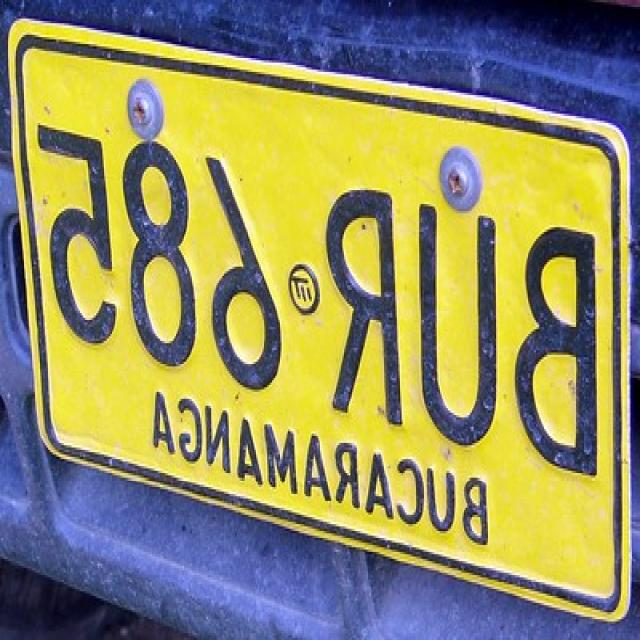placas: (32, 97, 616, 492)
